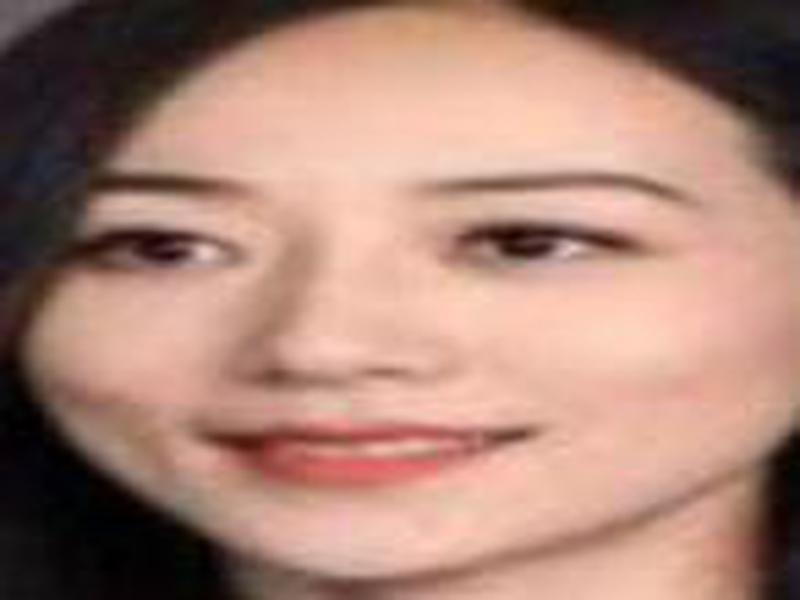without_mask: (36, 63, 791, 576)
